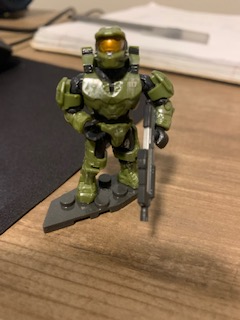chief: (53, 27, 174, 206)
rifle: (137, 102, 161, 223)
spartan: (51, 25, 172, 204)
